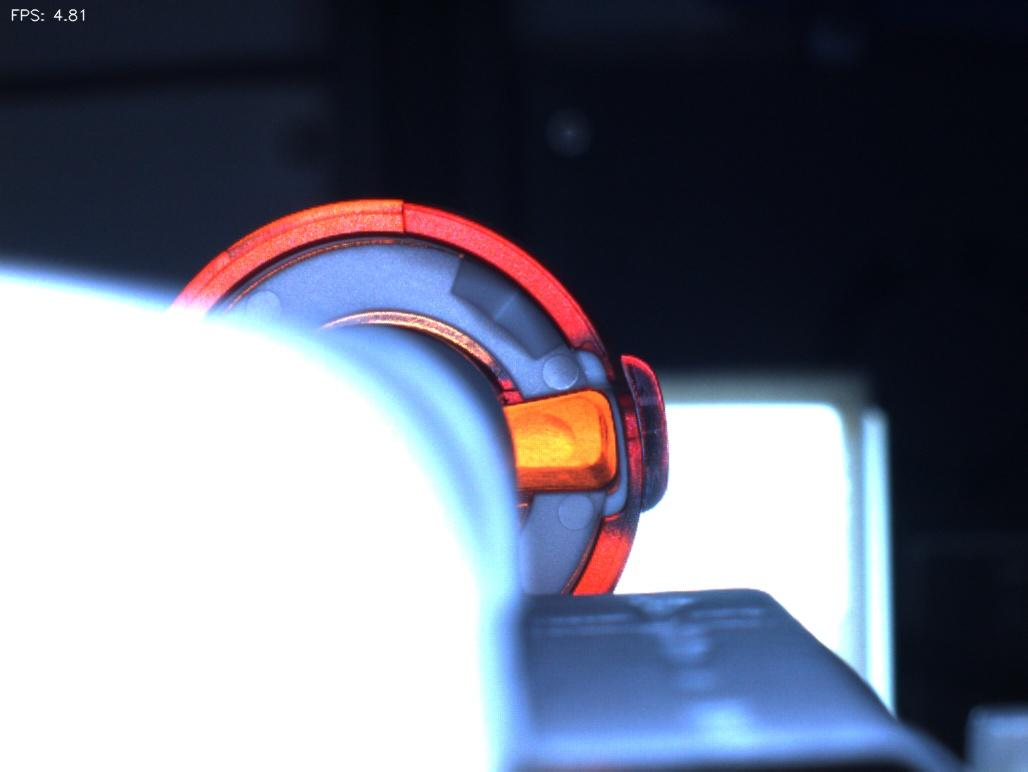Retassure: (507, 406, 583, 472)
